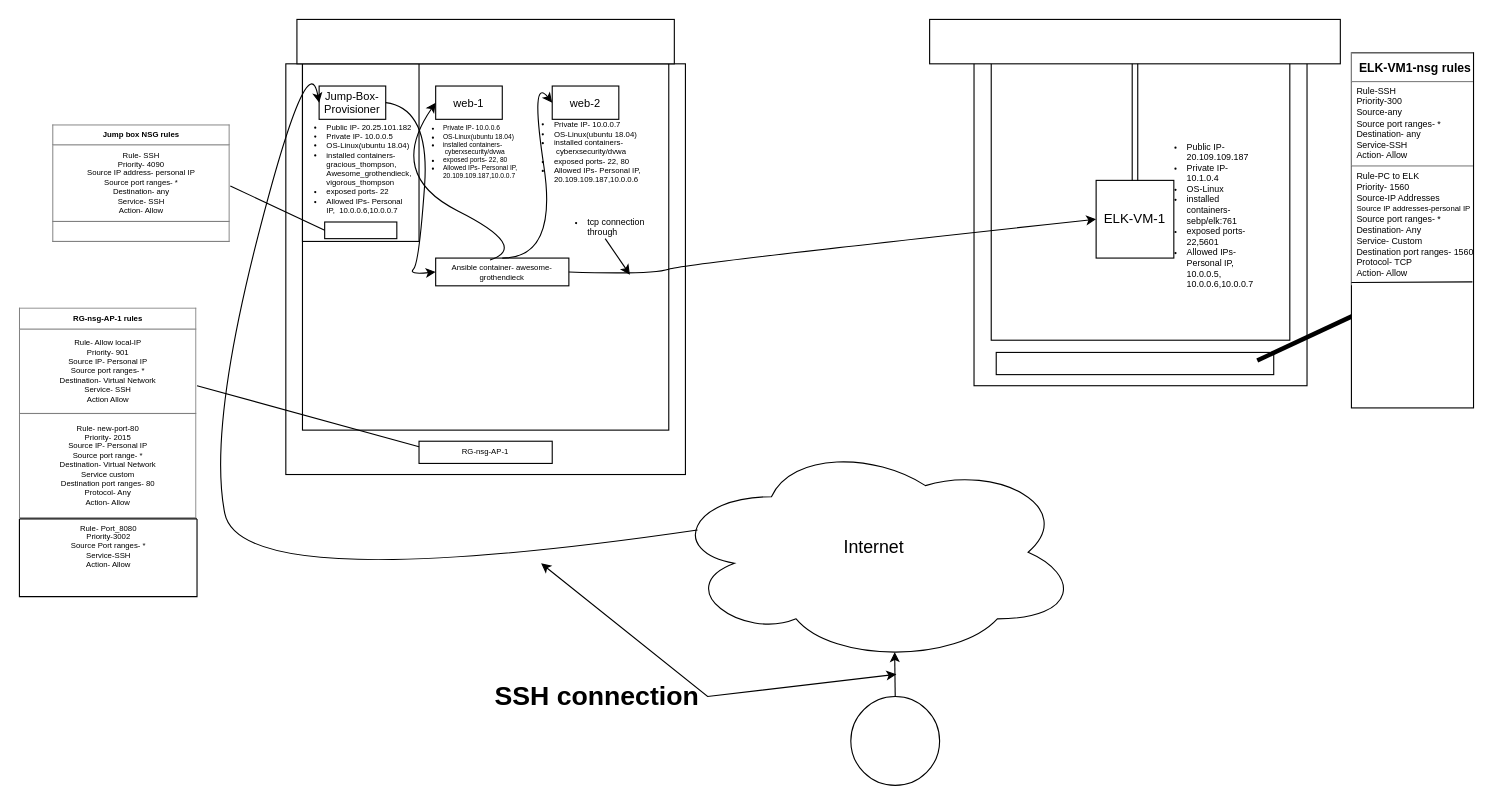
The diagram is 1494 pixels wide and 805 high, and some of its shapes have lost their labels. Each missing label, with the centre of its shape:
"ELK-VM-1-nsg" goes at (1134,363).
"ELK-Vnet-AP(10.1.0.0/16) East US 2." goes at (1134,41).
"Jumpbox-provisioner nsg" goes at (360,230).
"Local machine" goes at (895,740).
"RG-VN-AP-1(10.0.0.0/16) East US" goes at (485,41).
